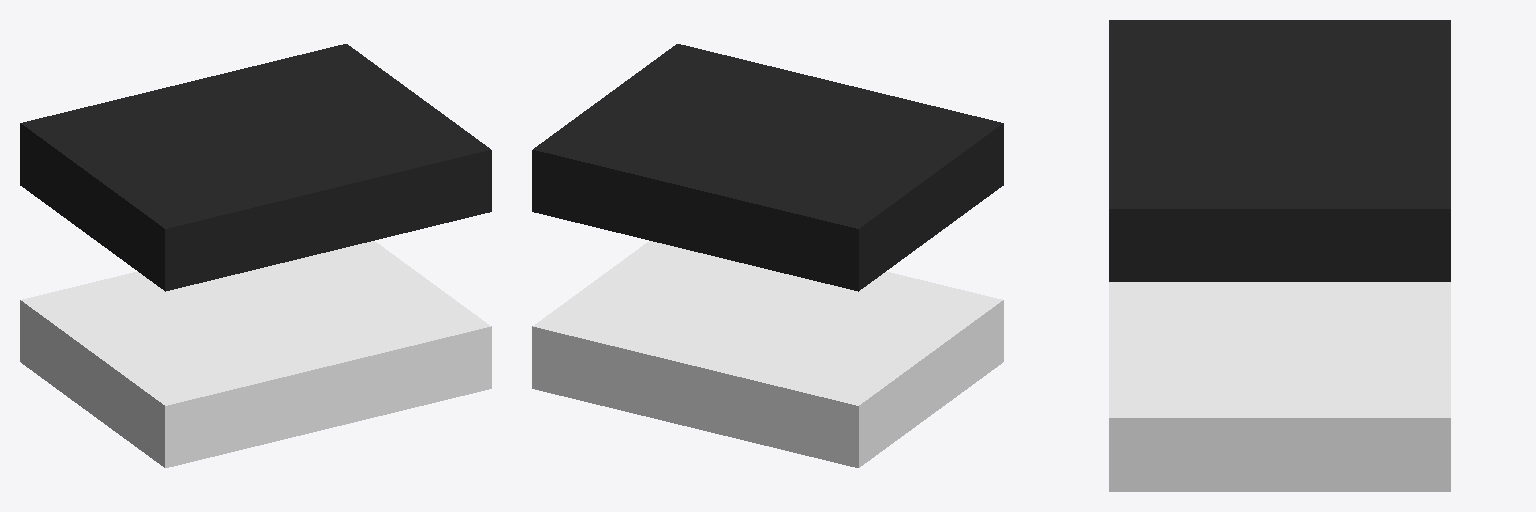
The robot description file, URDF, robot "delta_robot":
<?xml version="1.0" ?>
<!--
<robot name="sick_tim" xmlns:controller="http://playerstage.sourceforge.net/gazebo/xmlschema/#controller" xmlns:interface="http://playerstage.sourceforge.net/gazebo/xmlschema/#interface" xmlns:sensor="http://playerstage.sourceforge.net/gazebo/xmlschema/#sensor" xmlns:xacro="http://ros.org/wiki/xacro">
-->
<robot name="delta_robot" xmlns:xacro="http://ros.org/wiki/xacro">
 
  <!-- <xacro:include filename="$(find realsense2_description)/urdf/_d435.urdf.xacro" /> -->
  <sensor_d435 parent="base_link" name="camera">
    <!--origin rpy="0 0 0" xyz="0.48 0.015 0.48"/-->
    <origin rpy="0 0 0" xyz="0.425 0.0 0.30"/>
  </sensor_d435>
  
  <!--link name="right_wheel">
    <collision name="collision">
      <origin rpy="0 1.5707 1.5707" xyz="0 0 0"/>
      <geometry>
        <sphere radius="0.1"/>
      </geometry>
    </collision>
    <visual>
      <origin rpy="0 1.5707 1.5707" xyz="0 0 0"/>
      <geometry>
        <cylinder length="0.05" radius="0.1"/>
      </geometry>
    </visual>
    <inertial>
      <origin rpy="0 1.5707 1.5707" xyz="0 0 0"/>
      <mass value="0.1"/>
      <inertia ixx="0.0005" ixy="-4.2369783e-10" ixz="-5.9381719e-08" iyy="0.0002708" iyz="-1.4400107e-10" izz="0.0002708"/>
    </inertial>
  </link-->
  
  <!--
  <gazebo reference="right_wheel">
    <mu1>1.5</mu1>
    <mu2>1.5</mu2>
    <kp>1000000.0</kp>
    <kd>100.0</kd>
    <minDepth>0.001</minDepth>
    <maxVel>1.0</maxVel>
    <material value="Gazebo/Blue"/>
  </gazebo>-->
  <!--joint name="right_wheel_joint" type="continuous">
    <origin rpy="0 0 0" xyz="0 -0.15 0"/>
    <child link="right_wheel"/>
    <parent link="base_link"/>
    <axis xyz="0 1 0"/>
    <dynamics damping="0.18" friction="0.5"/>
    <gazebo reference="right_wheel_joint">
      <implicitSpringDamper>true</implicitSpringDamper>
    </gazebo>
  </joint>-->
  <!--link name="left_wheel">
    <collision name="collision">
      <origin rpy="0 1.5707 1.5707" xyz="0 0 0"/>
      <geometry>
        <sphere radius="0.1"/>
      </geometry>
    </collision>
    <visual>
      <origin rpy="0 1.5707 1.5707" xyz="0 0 0"/>
      <geometry>
        <cylinder length="0.05" radius="0.1"/>
      </geometry>
    </visual>
    <inertial>
      <origin rpy="0 1.5707 1.5707" xyz="0 0 0"/>
      <mass value="0.1"/>
      <inertia ixx="0.0005" ixy="-4.2369783e-10" ixz="-5.9381719e-08" iyy="0.0002708" iyz="-1.4400107e-10" izz="0.0002708"/>
    </inertial>
  </link-->
  <!--
  <gazebo reference="left_wheel">
    <mu1>1.5</mu1>
    <mu2>1.5</mu2>
    <kp>1000000.0</kp>
    <kd>100.0</kd>
    <minDepth>0.001</minDepth>
    <maxVel>1.0</maxVel>
    <material value="Gazebo/Blue"/>
  </gazebo>-->
  <!--joint name="left_wheel_joint" type="continuous">
    <origin rpy="0 0 0" xyz="0 0.15 0"/>
    <child link="left_wheel"/>
    <parent link="base_link"/>
    <axis xyz="0 1 0"/>
    <dynamics damping="0.18" friction="0.5"/>
    <gazebo reference="left_wheel_joint">
      <implicitSpringDamper>true</implicitSpringDamper>
    </gazebo>
  </joint>-->
  <!--link name="caster_front_right">
    <visual>
      <origin rpy="0 0 0" xyz="0 0 0"/>
      <geometry>
        <sphere radius="0.01"/>
      </geometry>
      <material name="grey"/>
    </visual>
    <pose rpy="0 0 0" xyz="0 1 0"/>
    <color name="yellow"/>
    <collision>
      <origin rpy="0 0 0" xyz="0 0 0"/>
      <geometry>
        <sphere radius="0.01"/>
      </geometry>
    </collision>
    <inertial>
      <origin rpy="0 0 0" xyz="0 0 0"/>
      <mass value="1"/>
      <inertia ixx=".025" ixy="0.0" ixz="0.0" iyy=".025" iyz="0.0" izz=".025"/>
    </inertial>
  </link-->
  <!--
  <gazebo reference="caster_front_right">
    <mu1>0.0</mu1>
    <mu2>0.0</mu2>
    <kp>1000000.0</kp>
    <kd>100.0</kd>
    <minDepth>0.001</minDepth>
    <maxVel>2.0</maxVel>
    <material>Gazebo/Blue</material>
  </gazebo>-->
  <!--joint name="caster_front_right_joint" type="continuous">
    <axis xyz="0 1 0"/>
    <parent link="body"/>
    <child link="caster_front_right"/>
    <origin rpy="0 0 0" xyz="0.633 -0.294 -0.14"/>
  </joint>
  <link name="caster_rear_right">
    <visual>
      <origin rpy="0 0 0" xyz="0 0 0"/>
      <geometry>
        <sphere radius="0.01"/>
      </geometry>
      <material name="grey"/>
    </visual>
    <pose rpy="0 0 0" xyz="0 1 0"/>
    <color name="yellow"/>
    <collision>
      <origin rpy="0 0 0" xyz="0 0 0"/>
      <geometry>
        <sphere radius="0.01"/>
      </geometry>
    </collision>
    <inertial>
      <origin rpy="0 0 0" xyz="0 0 0"/>
      <mass value="1"/>
      <inertia ixx=".025" ixy="0.0" ixz="0.0" iyy=".025" iyz="0.0" izz=".025"/>
    </inertial>
  </link-->
  <!--
  <gazebo reference="caster_rear_right">
    <mu1>0.0</mu1>
    <mu2>0.0</mu2>
    <kp>1000000.0</kp>
    <kd>100.0</kd>
    <minDepth>0.001</minDepth>
    <maxVel>2.0</maxVel>
    <material>Gazebo/Blue</material>
  </gazebo>-->
  <!--joint name="caster_rear_right_joint" type="continuous">
    <axis xyz="0 1 0"/>
    <parent link="body"/>
    <child link="caster_rear_right"/>
    <origin rpy="0 0 0" xyz="-0.633 -0.294 -0.14"/>
  </joint>-
  <link name="caster_front_left">
    <visual>
      <origin rpy="0 0 0" xyz="0 0 0"/>
      <geometry>
        <sphere radius="0.01"/>
      </geometry>
      <material name="grey"/>
    </visual>
    <pose rpy="0 0 0" xyz="0 1 0"/>
    <color name="yellow"/>
    <collision>
      <origin rpy="0 0 0" xyz="0 0 0"/>
      <geometry>
        <sphere radius="0.01"/>
      </geometry>
    </collision>
    <inertial>
      <origin rpy="0 0 0" xyz="0 0 0"/>
      <mass value="1"/>
      <inertia ixx=".025" ixy="0.0" ixz="0.0" iyy=".025" iyz="0.0" izz=".025"/>
    </inertial>
  </link-->
  <!-->
  <gazebo reference="caster_front_left">
    <mu1>0.0</mu1>
    <mu2>0.0</mu2>
    <kp>1000000.0</kp>
    <kd>100.0</kd>
    <minDepth>0.001</minDepth>
    <maxVel>2.0</maxVel>
    <material>Gazebo/Blue</material>
  </gazebo>-->
  <!--joint name="caster_front_left_joint" type="continuous">
    <axis xyz="0 1 0"/>
    <parent link="body"/>
    <child link="caster_front_left"/>
    <origin rpy="0 0 0" xyz="0.633 0.294 -0.14"/>
  </joint>
  <link name="caster_rear_left">
    <visual>
      <origin rpy="0 0 0" xyz="0 0 0"/>
      <geometry>
        <sphere radius="0.01"/>
      </geometry>
      <material name="grey"/>
    </visual>
    <pose rpy="0 0 0" xyz="0 1 0"/>
    <color name="yellow"/>
    <collision>
      <origin rpy="0 0 0" xyz="0 0 0"/>
      <geometry>
        <sphere radius="0.01"/>
      </geometry>
    </collision>
    <inertial>
      <origin rpy="0 0 0" xyz="0 0 0"/>
      <mass value="1"/>
      <inertia ixx=".025" ixy="0.0" ixz="0.0" iyy=".025" iyz="0.0" izz=".025"/>
    </inertial>
  </link-->
  <!--
  <gazebo reference="caster_rear_left">
    <mu1>0.0</mu1>
    <mu2>0.0</mu2>
    <kp>1000000.0</kp>
    <kd>100.0</kd>
    <minDepth>0.001</minDepth>
    <maxVel>2.0</maxVel>
    <material>Gazebo/Blue</material>
  </gazebo>-->
  <!--joint name="caster_rear_left_joint" type="continuous">
    <axis xyz="0 1 0"/>
    <parent link="body"/>
    <child link="caster_rear_left"/>
    <origin rpy="0 0 0" xyz="-0.633 0.294 -0.14"/>
  </joint-->
  <!--   $(find sick_tim)/urdf/ -->
  <link name="base_link">
    <pose>0 0 0.1 0 0 0</pose>
    <!--
    <inertial>
      <mass value="1.0"/>
      <origin rpy=" 0 0 0" xyz="0.0 0 0.0"/>
      <inertia ixx="0.25" ixy="0" ixz="0" iyy="0.25" iyz="0" izz="0.25"/>
    </inertial>
    <collision name="collision">
      <geometry>
        <box size=".2 0.31806 .1"/>
      </geometry>
    </collision> -->
    <visual>
      <origin rpy=" 0 0 0" xyz="0 0 0"/>
      <geometry>
        <box size=".4 .2 .1"/>
      </geometry>
    </visual>
  </link>
  
  <link name="body">
    <visual>
      <origin xyz="0 0 0.1"/>
      <geometry>
        <box size="0.82 0.631 0.15"/>
      </geometry>
      <material name="black">
        <color rgba="0.2 0.2 0.2 1"/>
      </material>
    </visual>
  </link>
  <link name="body_lower">
    <visual>
      <origin xyz="0 0 0"/>
      <geometry>
        <box size="0.82 0.631 0.15"/>
      </geometry>
      <material name="gray">
        <color rgba="1 1 1 0.8"/>
      </material>
    </visual>
  </link>
  
  <link name="imu_link">
    <inertial>
      <mass value="0.1"/>
      <origin rpy=" 0 0 0" xyz="0.0 0.0 0.0"/>
      <inertia ixx="0.0025" ixy="0" ixz="0" iyy="0.0025" iyz="0" izz="0.0025"/>
    </inertial>
    <visual>
      <origin xyz="0.0 0.0 0.0"/>
      <geometry>
        <box size="0.0145 0.02 0.002"/>
      </geometry>
      <material name="yellow">
        <color rgba="0 0.5 0.5 1"/>
      </material>
    </visual>
  </link>

 
  <link name="laser_min_front_mount_link">
    <inertial>
      <mass value="0.001"/>
      <origin xyz="0 0 0"/>
      <inertia ixx="0.000001" ixy="0.0" ixz="0.0" iyy="0.000001" iyz="0.0" izz="0.000001"/>
    </inertial>
  </link>
  <joint name="laser_min_front_joint" type="fixed">
    <parent link="laser_min_front_mount_link"/>
    <child link="laser_min_front"/>
    <origin rpy="0 0 0" xyz="0 0 0.0505"/>
  </joint>
  <link name="laser_min_front">
    <visual>
      <geometry>
        <mesh filename="package://sick_tim/meshes/sick_tim551.stl"/>
      </geometry>
      <material name="blue">
        <color rgba="0 0 1 1"/>
      </material>
    </visual>
    <collision>
      <geometry>
        <mesh filename="package://sick_tim/meshes/sick_tim551.stl"/>
      </geometry>
    </collision>
    <inertial>
      <mass value="0.001"/>
      <origin xyz="0 0 -0.026"/>
      <inertia ixx="0.0002290832417" ixy="0.0" ixz="0.0" iyy="0.0002290832417" iyz="0.0" izz="0.00014999994"/>
    </inertial>
  </link>

  <link name="laser_min_back_mount_link">
    <inertial>
      <mass value="0.001"/>
      <origin xyz="0 0 0"/>
      <inertia ixx="0.000001" ixy="0.0" ixz="0.0" iyy="0.000001" iyz="0.0" izz="0.000001"/>
    </inertial>
  </link>
  <joint name="laser_min_back_joint" type="fixed">
    <parent link="laser_min_back_mount_link"/>
    <child link="laser_min_back"/>
    <origin rpy="0 0 0" xyz="0 0 0.0505"/>
  </joint>
  <link name="laser_min_back">
    <visual>
      <geometry>
        <mesh filename="package://sick_tim/meshes/sick_tim551.stl"/>
      </geometry>
      <material name="blue">
        <color rgba="0 0 1 1"/>
      </material>
    </visual>
    <collision>
      <geometry>
        <mesh filename="package://sick_tim/meshes/sick_tim551.stl"/>
      </geometry>
    </collision>
    <inertial>
      <mass value="0.001"/>
      <origin xyz="0 0 -0.026"/>
      <inertia ixx="0.0002290832417" ixy="0.0" ixz="0.0" iyy="0.0002290832417" iyz="0.0" izz="0.00014999994"/>
    </inertial>
  </link>

  <!-- z_offset: distance between base plate and laser center (= center of mesh) -->
  <!-- test safety lidar
  <link name="laser_front_mount_link">
    <inertial>
      <mass value="0.001"/>
      <origin xyz="0 0 0"/>
      <inertia ixx="0.000001" ixy="0.0" ixz="0.0" iyy="0.000001" iyz="0.0" izz="0.000001"/>
    </inertial>
  </link>
  <joint name="laser_front_joint" type="fixed">
    <parent link="laser_front_mount_link"/>
    <child link="laser_front"/>
    <origin rpy="0 0 0" xyz="0 0 0.06296"/>
  </joint>
  <link name="laser_front">
    <visual>
      <geometry>
        <mesh filename="package://sick_tim/meshes/sick_tim551.stl"/>
      </geometry>
      <material name="blue">
        <color rgba="0 0 1 1"/>
      </material>
    </visual>
    <collision>
      <geometry>
        <mesh filename="package://sick_tim/meshes/sick_tim551.stl"/>
      </geometry>
    </collision>
    <inertial>
      <mass value="0.001"/>
      <origin xyz="0 0 -0.026"/>
      <inertia ixx="0.0002290832417" ixy="0.0" ixz="0.0" iyy="0.0002290832417" iyz="0.0" izz="0.00014999994"/>
    </inertial>
  </link> 
  -->
  <!--
  <gazebo reference="laser_front">
    <material value="Gazebo/Blue"/>
    <sensor name="laser_front" type="ray">
      <always_on>true</always_on>
      <update_rate>15.0</update_rate>
      <pose>0 0 0 0 0 0</pose>
      <visualize>false</visualize>
      <ray>
        <scan>
          <horizontal>
            <samples>271</samples>
            <resolution>1</resolution>
            <min_angle>-2.357</min_angle>
            <max_angle>2.357</max_angle>
          </horizontal>
        </scan>
        <range>
          <min>0.05</min>
          <max>10.0</max>
          <resolution>0.01</resolution>
        </range>
      </ray>
      <plugin filename="libgazebo_ros_laser.so" name="gazebo_ros_laser_front_controller">
        <gaussianNoise>0.005</gaussianNoise>
        <alwaysOn>true</alwaysOn>
        <updateRate>15.0</updateRate>
        <topicName>scan_2</topicName>
        <frameName>laser_front</frameName>
      </plugin>
    </sensor>
  </gazebo>-->
  <!-- z_offset: distance between base plate and laser center (= center of mesh) -->
  <!-- test safety lidar
  <link name="laser_back_mount_link">
    <inertial>
      <mass value="0.001"/>
      <origin xyz="0 0 0"/>
      <inertia ixx="0.000001" ixy="0.0" ixz="0.0" iyy="0.000001" iyz="0.0" izz="0.000001"/>
    </inertial>
  </link>
  <joint name="laser_back_joint" type="fixed">
    <parent link="laser_back_mount_link"/>
    <child link="laser_back"/>
    <origin rpy="0 0 0" xyz="0 0 0.06296"/>
  </joint>
  <link name="laser_back">
    <visual>
      <geometry>
        <mesh filename="package://sick_tim/meshes/sick_tim551.stl"/>
      </geometry>
      <material name="blue">
        <color rgba="0 0 1 1"/>
      </material>
    </visual>
    <collision>
      <geometry>
        <mesh filename="package://sick_tim/meshes/sick_tim551.stl"/>
      </geometry>
    </collision>
    <inertial>
      <mass value="0.001"/>
      <origin xyz="0 0 -0.026"/>
      <inertia ixx="0.0002290832417" ixy="0.0" ixz="0.0" iyy="0.0002290832417" iyz="0.0" izz="0.00014999994"/>
    </inertial>
  </link>
  -->
  <!--
  <gazebo reference="laser_back">
    <material value="Gazebo/Blue"/>
    <sensor name="laser_back" type="ray">
      <always_on>true</always_on>
      <update_rate>15.0</update_rate>
      <pose>0 0 0 0 0 0</pose>
      <visualize>false</visualize>
      <ray>
        <scan>
          <horizontal>
            <samples>271</samples>
            <resolution>1</resolution>
            <min_angle>-2.357</min_angle>
            <max_angle>2.357</max_angle>
          </horizontal>
        </scan>
        <range>
          <min>0.05</min>
          <max>10.0</max>
          <resolution>0.01</resolution>
        </range>
      </ray>
      <plugin filename="libgazebo_ros_laser.so" name="gazebo_ros_laser_back_controller">
        <gaussianNoise>0.005</gaussianNoise>
        <alwaysOn>true</alwaysOn>
        <updateRate>15.0</updateRate>
        <topicName>scan_1</topicName>
        <frameName>laser_back</frameName>
      </plugin>
    </sensor>
  </gazebo>-->
  <!-- DG
  <joint name="laser_front_link_joint" type="fixed">
    <parent link="base_link"/>
    <child link="laser_front_mount_link"/>
    <origin rpy="0 0 -0.769" xyz="0.633 -0.294 0.14"/> 
  </joint>
  <joint name="laser_back_link_joint" type="fixed">
    <parent link="base_link"/>
    <child link="laser_back_mount_link"/>
    <origin rpy="0 0  2.342" xyz="-0.633 0.294 0.14"/>
  </joint>-->

  <!-- Taichung-->
  <!-- test safety lidar
  <joint name="laser_front_link_joint" type="fixed">
    <parent link="base_link"/>
    <child link="laser_front_mount_link"/>
    <origin rpy="0 0 0.786" xyz="0.475 0.385 0.30"/> 
  </joint>
  <joint name="laser_back_link_joint" type="fixed">
    <parent link="base_link"/>
    <child link="laser_back_mount_link"/>
    <origin rpy="0 0  -2.356" xyz="-0.425 -0.335 0.32 "/> 
  </joint>
  -->
<!--    <origin rpy="0 0 0" xyz="0.3978 0.0 0.478"/> -->
<!--origin rpy="0 0 0" xyz="0.39875 0.0 0.478"/-->
  <joint name="laser_min_front_link_joint" type="fixed">
    <parent link="base_link"/>
    <child link="laser_min_front_mount_link"/>
    <origin rpy="0 0 -0.785" xyz="0.371566 -0.285066 0.22"/> <!-- -0.785-->
  </joint>
  <!--<joint name="laser_min_back_link_joint" type="fixed">
    <parent link="base_link"/>
    <child link="laser_min_back_mount_link"/>
    <origin rpy="0 0 -3.925" xyz="-0.371566 0.285066 0.22"/> 
  </joint>-->
  <!--after calibration-->
  <joint name="laser_min_back_link_joint" type="fixed">
    <parent link="laser_min_front_mount_link"/>
    <child link="laser_min_back_mount_link"/> <!--0.00159264-->
    <origin rpy="3.14159 -3.141590 -0.0174444" xyz="-0.929 -0.122 0"/> 
  </joint>
  
  <!-- central -->
  <!--
  <joint name="imu_link_joint" type="fixed">
    <parent link="base_link"/>
    <child link="imu_link"/>
    <origin xyz="0.0 0.0 0.102"/>
  </joint>-->
  <!--<joint name="imu_link_joint" type="fixed">
    <parent link="base_link"/>
    <child link="imu_link"/>
    <origin rpy="0 -1.571 0" xyz="0.48 0.0 0.48"/>
  </joint> -->
  <joint name="imu_link_joint" type="fixed">
    <parent link="base_link"/>
    <child link="imu_link"/>
    <origin rpy="0 0 0" xyz="0.0 0.0 0.3"/>
    <!--origin rpy="0 0 0" xyz="0.425 0.012 0.30"/-->
  </joint>


  <joint name="body_joint" type="fixed">
    <parent link="base_link"/>
    <child link="body"/>
    <origin xyz="-0.0 0 0.43"/>
  </joint>
  <joint name="body_lower_joint" type="fixed">
    <parent link="base_link"/>
    <child link="body_lower"/>
    <origin xyz="-0.0 0 0.105"/>
  </joint>
  <!--
  <gazebo>
    <plugin filename="libgazebo_ros_diff_drive.so" name="differential_drive_controller">
      <legacyMode>false</legacyMode>
      <alwaysOn>true</alwaysOn>
      <updateRate>20</updateRate>
      <leftJoint>left_wheel_joint</leftJoint>
      <rightJoint>right_wheel_joint</rightJoint>
      <wheelSeparation>0.3</wheelSeparation>
      <wheelDiameter>0.2</wheelDiameter>
      <torque>1</torque>
      <commandTopic>smooth_cmd_vel</commandTopic>
      <odometryTopic>odom</odometryTopic>
      <odometryFrame>odom</odometryFrame>
      <robotNamespace>/</robotNamespace>
      <odometrySource>world</odometrySource>
      <publishTf>1</publishTf>
      <rosDebugLevel>na</rosDebugLevel>
      <wheelAcceleration>1</wheelAcceleration>
      <wheelTorque>1</wheelTorque>
      <robotBaseFrame>base_link</robotBaseFrame>
      <publishWheelTF>false</publishWheelTF>
      <publishWheelJointState>false</publishWheelJointState>
      <publishOdomTF>true</publishOdomTF>
    </plugin>
  </gazebo>
  <gazebo reference="imu_link">
    <gravity>true</gravity>
    <material>Gazebo/Green</material>
    <sensor name="imu_sensor" type="imu">
      <always_on>true</always_on>
      <update_rate>500</update_rate>
      <visualize>true</visualize>
      <topic>imu</topic>
      <plugin filename="libgazebo_ros_imu_sensor.so" name="imu_plugin">
        <topicName>imu</topicName>
        <bodyName>imu_link</bodyName>
        <updateRateHZ>50.0</updateRateHZ>
        <gaussianNoise>0.0</gaussianNoise>
        <xyzOffset>0 0 0.0</xyzOffset>
        <rpyOffset>0 0 0</rpyOffset>
        <frameName>imu_link</frameName>
      </plugin>
      <pose>0 0 0.2 0 0 0</pose>
    </sensor>
  </gazebo>
  <gazebo reference="imu_link">
    <sensor name="imu" type="imu">
      <always_on>true</always_on>
      <visualize>true</visualize>
    </sensor>
  </gazebo>
  <gazebo reference="base_link">
    <velocity_decay angular="0.707" linear="0.707"/>
    <material>Gazebo/Orange</material>
    <must_be_base_link>true</must_be_base_link>
  </gazebo>
  <gazebo reference="body">
    <material>Gazebo/White</material>
    <must_be_base_link>true</must_be_base_link>
  </gazebo>
  <gazebo reference="body_lower">
    <material>Gazebo/Black</material>
    <must_be_base_link>true</must_be_base_link>
  </gazebo> -->
</robot>

--- Render facts (derived) ---
3 views of the same robot in one strip: view 1: azimuth 30°, elevation 25°; view 2: azimuth 150°, elevation 25°; view 3: azimuth 270°, elevation 25° (orthographic).
Robot: delta_robot — 8 links, 7 joints (7 fixed); root link base_link; default pose: all joints at 0.
Links seen in each view (by area): view 1: body, body_lower; view 2: body, body_lower; view 3: body, body_lower.
Boxes of the visible links, x1=… form: body: x1=20, y1=44, x2=491, y2=291; body_lower: x1=20, y1=241, x2=491, y2=467; body: x1=532, y1=44, x2=1003, y2=291; body_lower: x1=532, y1=241, x2=1003, y2=467; body: x1=1109, y1=20, x2=1450, y2=281; body_lower: x1=1109, y1=282, x2=1450, y2=491.
Bounding box of the posed robot: 0.82 × 0.631 × 0.655 m (x, y, z).
0 mesh visuals loaded from 1 distinct referenced files (none loaded); not drawn: 2 (reference not matched to a file when rendering).
